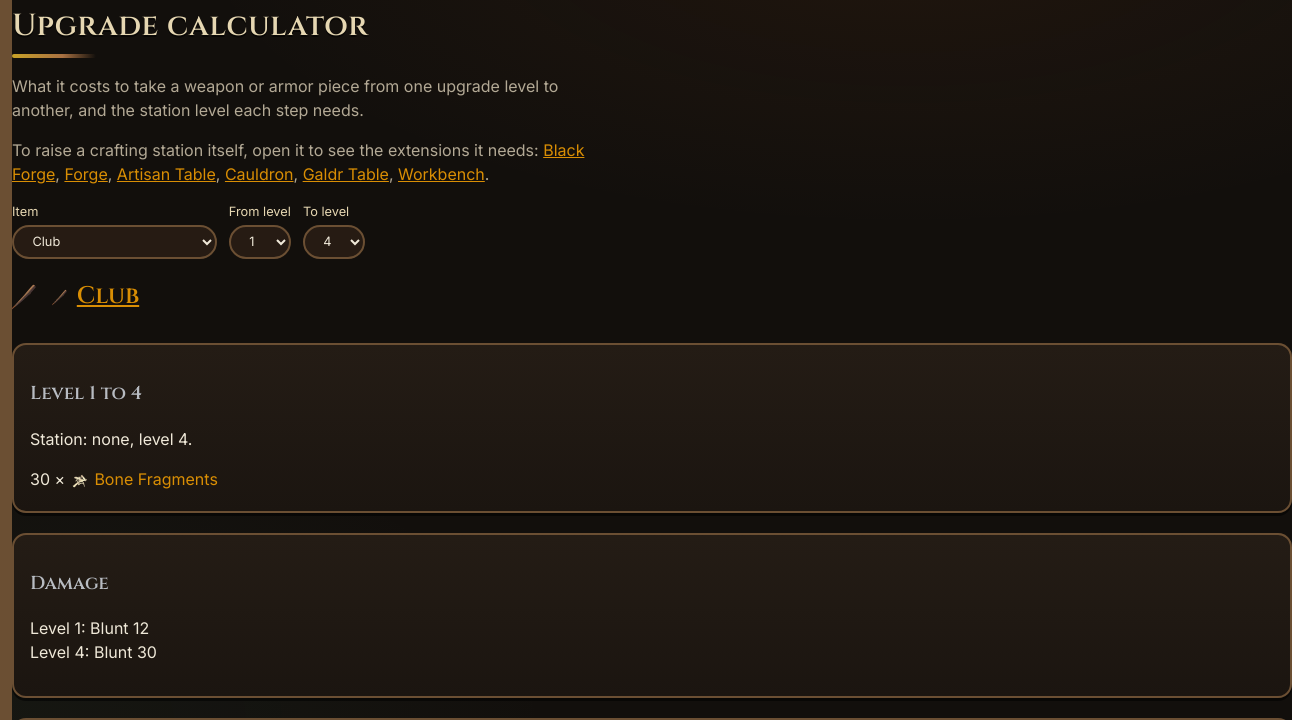
upgrade page › lets the target level change
Step 1. Select "2" in the dropdown labelled "To level" → (334, 242), box x1=303 y1=225 x2=365 y2=259
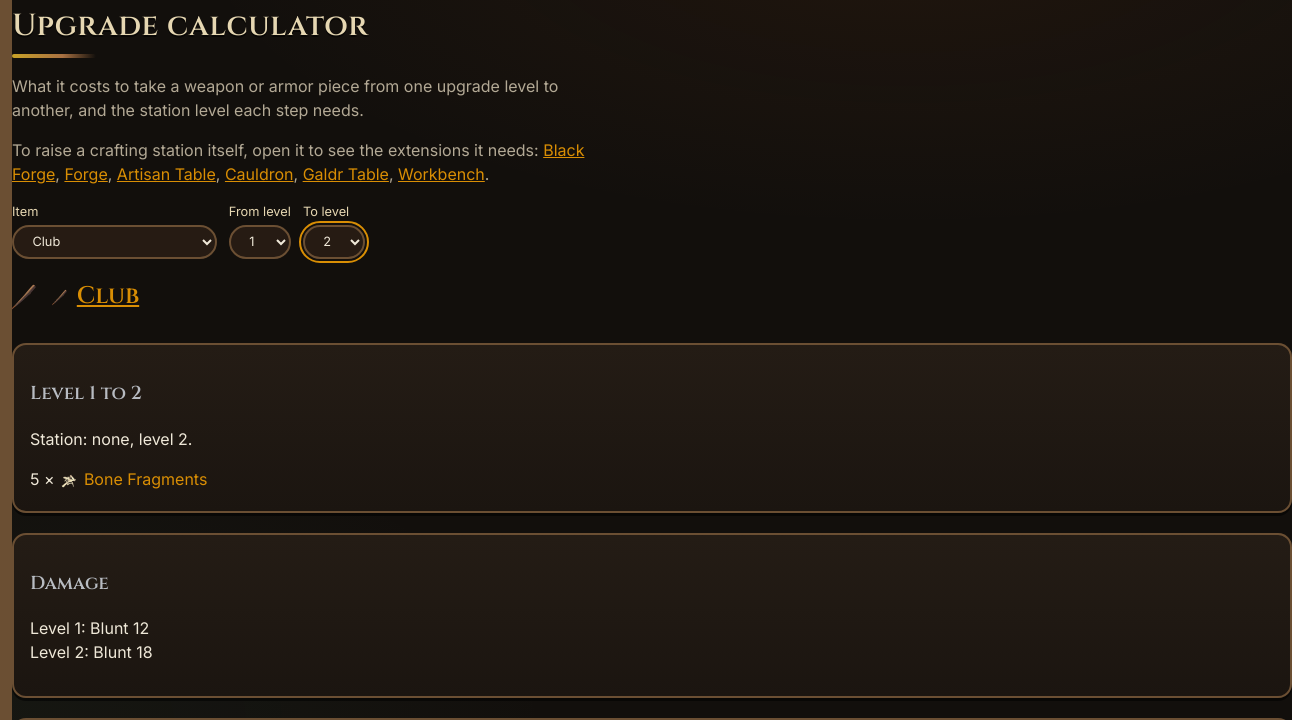
Now the heading "Level 1 to 2" is shown, box x1=30 y1=381 x2=142 y2=406
